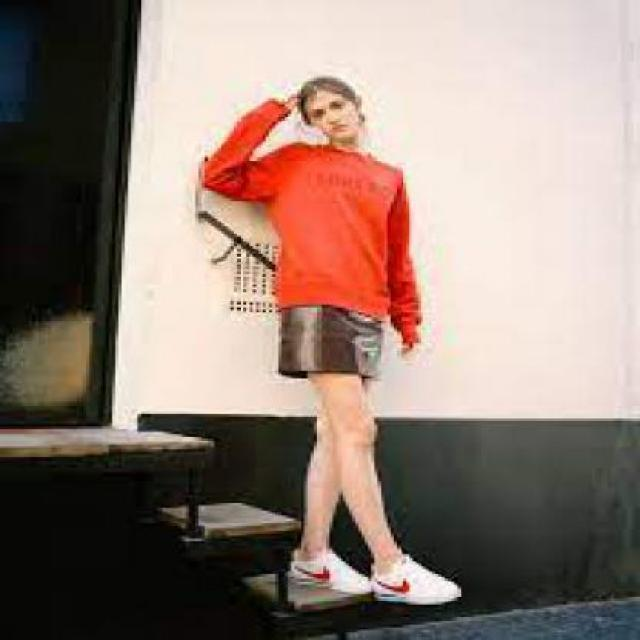Nike: (368, 572, 410, 595), (288, 561, 330, 580)
